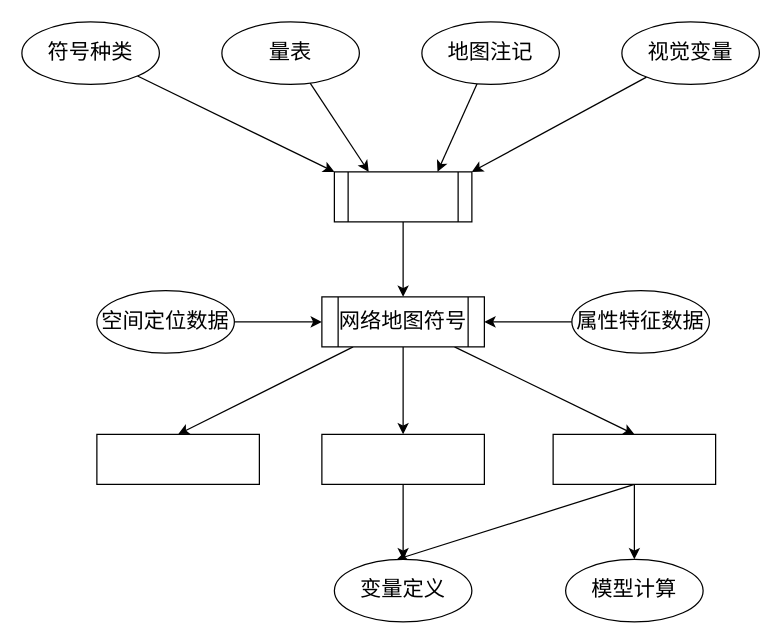
The diagram is 781 pixels wide and 644 high, and some of its shapes have lost their labels. Here are the shapes that lost their labels. From the top down, the centre of each, then its label:
At point 402,196: "地图符号".
At point 177,458: "固定符号".
At point 402,458: "属性数据驱动的固定符号".
At point 634,458: "模型驱动的可变符号".
